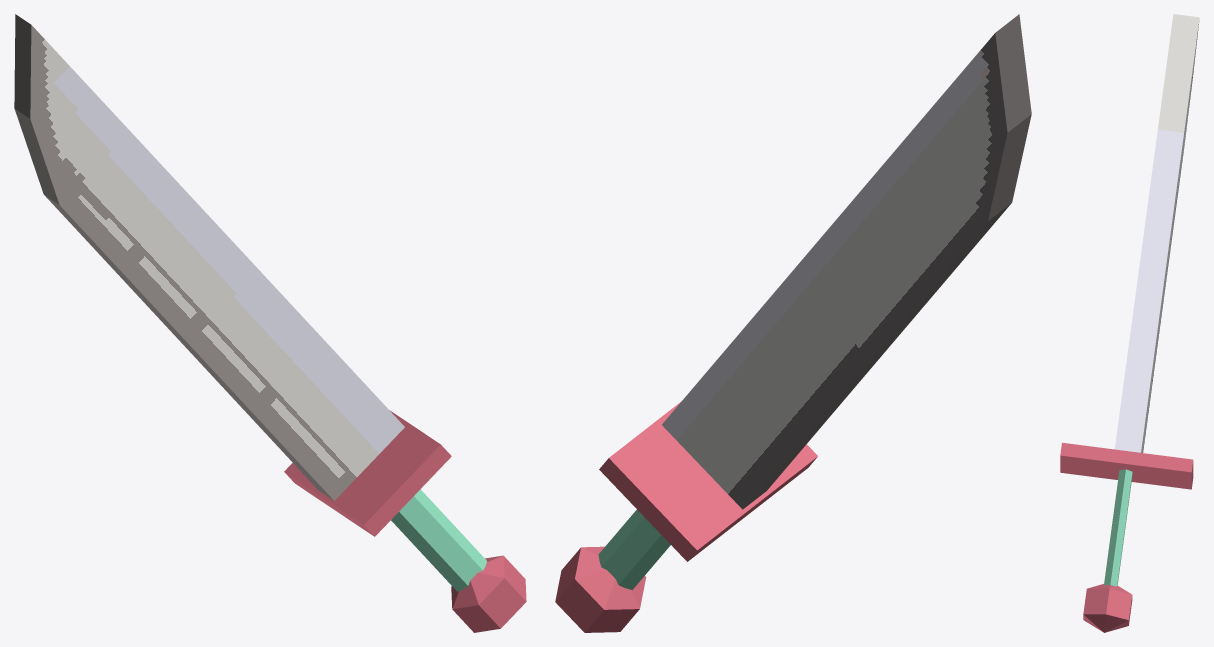
File: SwordLeftHand.gltf
3 renders of one model, left to right at view 1: azimuth 30°, elevation 25°; view 2: azimuth 150°, elevation 25°; view 3: azimuth 270°, elevation 25°, orthographic. The views are drawn at different scales.
Visible parts, largest first — view 1: Blade, WristGuard, Handle, CounterWeight; view 2: Blade, WristGuard, CounterWeight, Handle; view 3: Blade, WristGuard, CounterWeight, Handle.
Boxes of the visible parts, x1,y1,x2,y2 form: Blade: (14,14,404,500); WristGuard: (284,410,451,536); Handle: (391,489,486,591); CounterWeight: (451,555,526,632); Blade: (662,14,1031,509); WristGuard: (599,401,817,561); CounterWeight: (555,546,646,632); Handle: (598,509,670,589); Blade: (1115,14,1199,452); WristGuard: (1060,442,1193,489); CounterWeight: (1083,584,1132,632); Handle: (1104,469,1132,586).
Size of the model in its own units: 0.8735 by 1.24 by 0.3287.
1 material, 1 textured.
